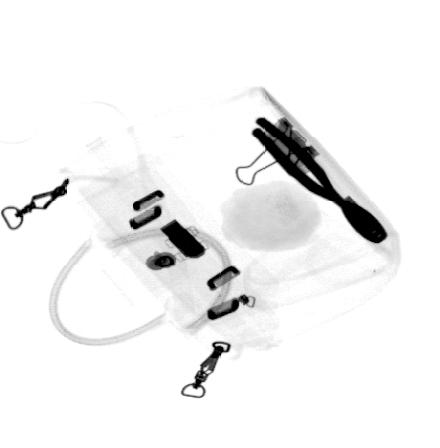Pliers: (250, 116, 389, 245)
